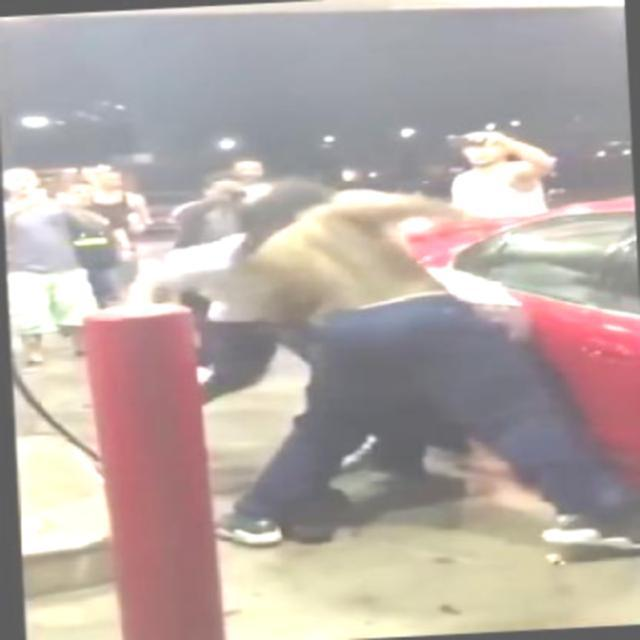fight: (156, 172, 539, 538)
non-fight: (5, 162, 133, 373)
